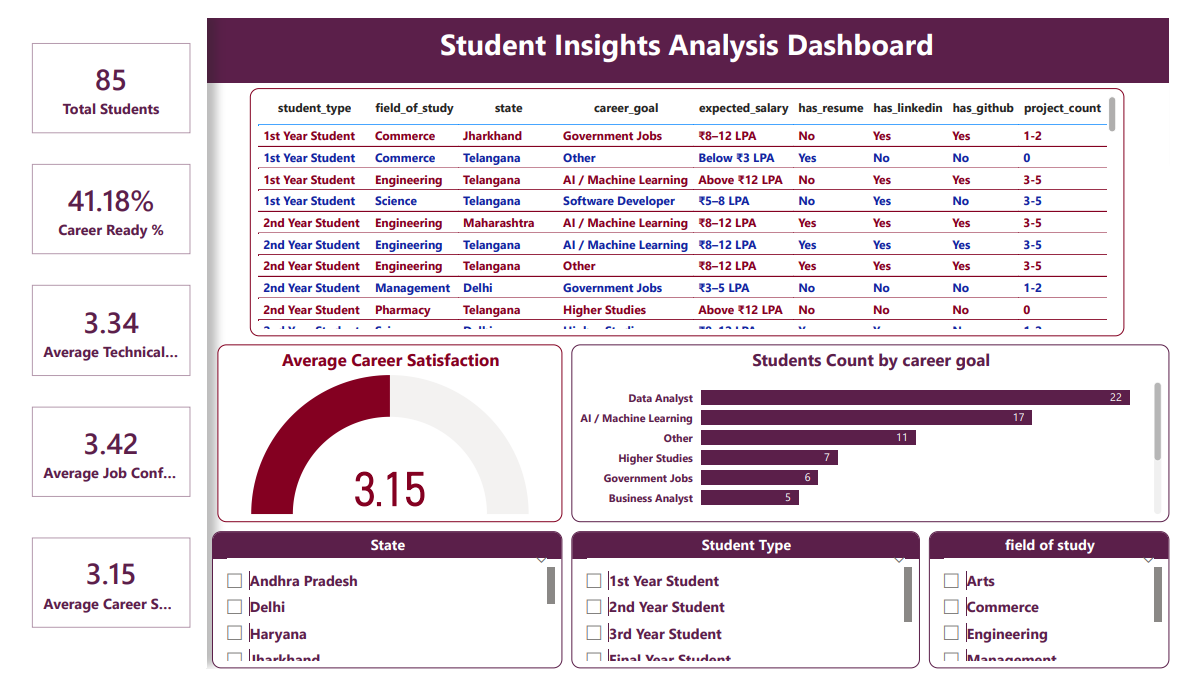

What the dashboard file says about the page in this screenshot:
{"tool":"powerbi","page":{"name":"Student Insights","canvas":[1280,720],"ordinal":4},"visuals":[{"type":"shape","box":[0,0,1280.5,70.6],"z":0},{"type":"shape","box":[0,0,210.9,720.3],"z":1000},{"type":"cardVisual","fields":{"Data":["Measure_Table.Total Students"]},"box":[0,10.2,209.9,134.1],"z":2000},{"type":"cardVisual","fields":{"Data":["Measure_Table.Career Ready %"]},"box":[0,144.3,209.9,134.1],"z":3000},{"type":"cardVisual","fields":{"Data":["Measure_Table.Average Technical Confidence"]},"box":[0,278.5,209.9,134.1],"z":4000},{"type":"cardVisual","fields":{"Data":["Measure_Table.Average Job Confidence"]},"box":[0,412.6,209.9,134.1],"z":5000},{"type":"cardVisual","fields":{"Data":["Measure_Table.Average Career Satisfaction"]},"box":[0,558.4,209.9,134.1],"z":6000},{"type":"textbox","box":[209.4,0,1070.3,70.3],"z":7000},{"type":"tableEx","fields":{"Values":["Fact_StudentSurvey.student_type","Dim_Education.field_of_study","Dim_Education.state","Dim_Career.career_goal","Dim_Career.expected_salary","Dim_CareerAssets.has_resume","Dim_CareerAssets.has_linkedin","Dim_CareerAssets.has_github","Dim_CareerAssets.project_count"]},"box":[259.4,76.6,970.3,275],"z":8000},{"type":"gauge","fields":{"Y":["Measure_Table.Average Career Satisfaction"]},"box":[223.4,360.9,382.8,196.9],"z":9000},{"type":"clusteredBarChart","title":"Students Count by career goal","fields":{"Category":["Dim_Career.career_goal"],"Y":["Measure_Table.Student Count"]},"box":[615.6,360.9,664.1,196.9],"z":10000},{"type":"slicer","title":"State","fields":{"Values":["Dim_Education.state"]},"box":[217.2,568.4,389.1,151.6],"z":11000},{"type":"slicer","title":"Student Type","fields":{"Values":["Fact_StudentSurvey.student_type"]},"box":[615.6,568.4,387.5,151.6],"z":12000},{"type":"slicer","title":"field of study","fields":{"Values":["Dim_Education.field_of_study"]},"box":[1012.5,568.4,267.2,151.6],"z":13000}]}

Visuals, with their boxes in screenshot pixels (x1, y1, x2, y2), scaled from the page's 1280x720 canvas onto the 1188x685 screenshot:
shape: select_region(0, 0, 1187, 67)
shape: select_region(0, 0, 196, 684)
cardVisual - Measure_Table.Total Students: select_region(0, 10, 195, 137)
cardVisual - Measure_Table.Career Ready %: select_region(0, 137, 195, 265)
cardVisual - Measure_Table.Average Technical Confidence: select_region(0, 265, 195, 393)
cardVisual - Measure_Table.Average Job Confidence: select_region(0, 393, 195, 520)
cardVisual - Measure_Table.Average Career Satisfaction: select_region(0, 531, 195, 659)
textbox: select_region(194, 0, 1187, 67)
tableEx - Fact_StudentSurvey.student_type x Dim_Education.field_of_study: select_region(241, 73, 1141, 335)
gauge - Measure_Table.Average Career Satisfaction: select_region(207, 343, 563, 531)
"Students Count by career goal" clusteredBarChart: select_region(571, 343, 1187, 531)
"State" slicer: select_region(202, 541, 563, 684)
"Student Type" slicer: select_region(571, 541, 931, 684)
"field of study" slicer: select_region(940, 541, 1187, 684)
